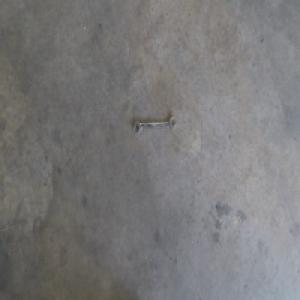Wrench: (132, 116, 176, 135)
